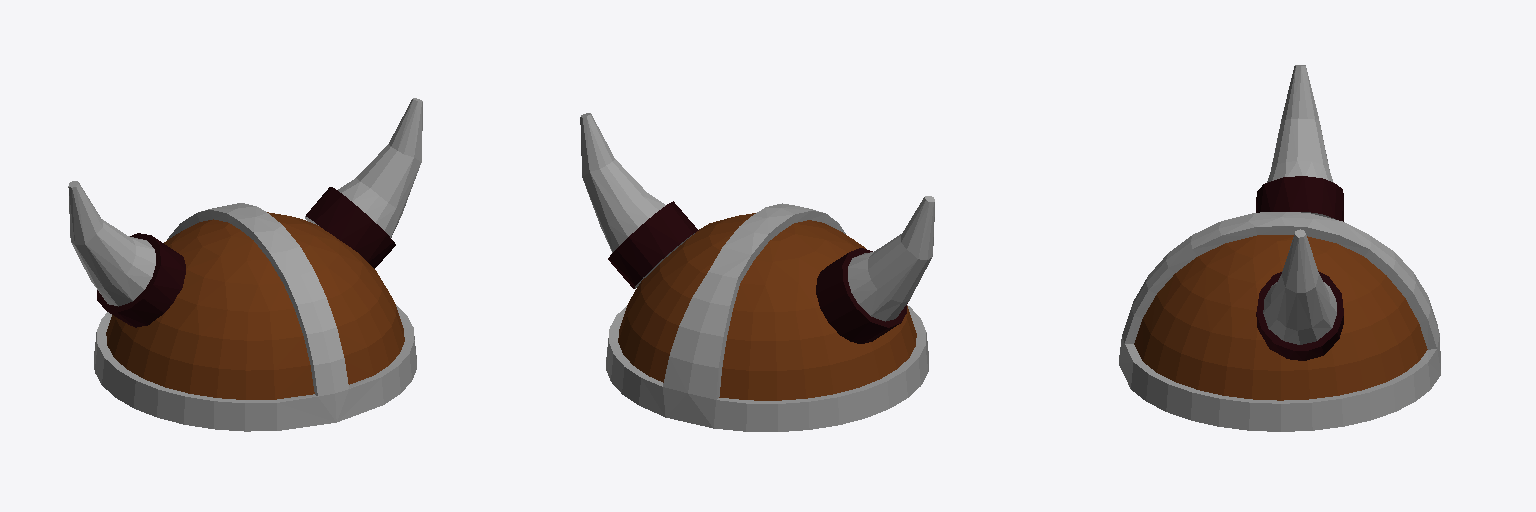
File: biking_hat.obj
The picture shows the model from 3 angles: view 1: azimuth 30°, elevation 25°; view 2: azimuth 150°, elevation 25°; view 3: azimuth 270°, elevation 25°; orthographic projection.
Parts seen in each view (by area): view 1: Sphere; view 2: Sphere; view 3: Sphere.
Part boxes in pixels (x1,y1,x2,y2): Sphere: (68, 98, 422, 431); Sphere: (580, 113, 934, 431); Sphere: (1119, 65, 1440, 431).
Size of the model in its own units: 3.71 by 2.17 by 2.94.